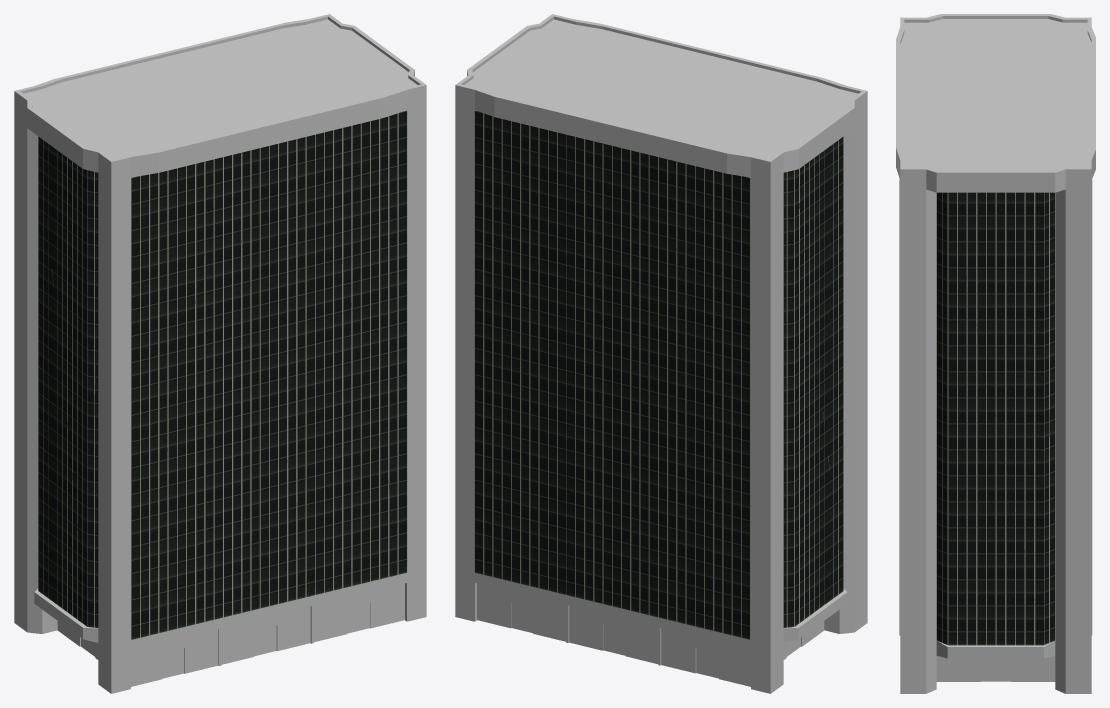
The picture shows the model from 3 angles, left to right: view 1: azimuth 30°, elevation 25°; view 2: azimuth 150°, elevation 25°; view 3: azimuth 270°, elevation 25°; orthographic projection.
Parts seen in each view (by area): view 1: BC-014; view 2: BC-014; view 3: BC-014.
Boxes of the visible parts, bbox=[...] form: BC-014: bbox=[14, 14, 426, 693]; BC-014: bbox=[455, 14, 867, 693]; BC-014: bbox=[896, 14, 1095, 693].
Size of what is drawn, in the model's own units: 31.36 by 48.35 by 16.7.
